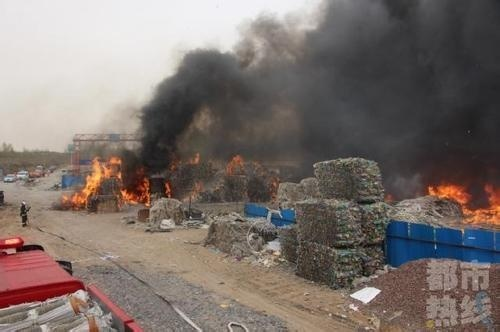fire: (60, 154, 130, 208), (429, 176, 500, 228), (122, 172, 153, 205), (183, 180, 206, 199), (225, 154, 243, 174), (163, 178, 173, 196), (189, 152, 201, 163)
